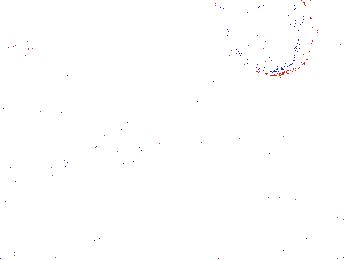moon jellyfish: (140, 18, 243, 110), (214, 1, 314, 77), (101, 1, 196, 58), (66, 13, 130, 83), (1, 46, 51, 102)
